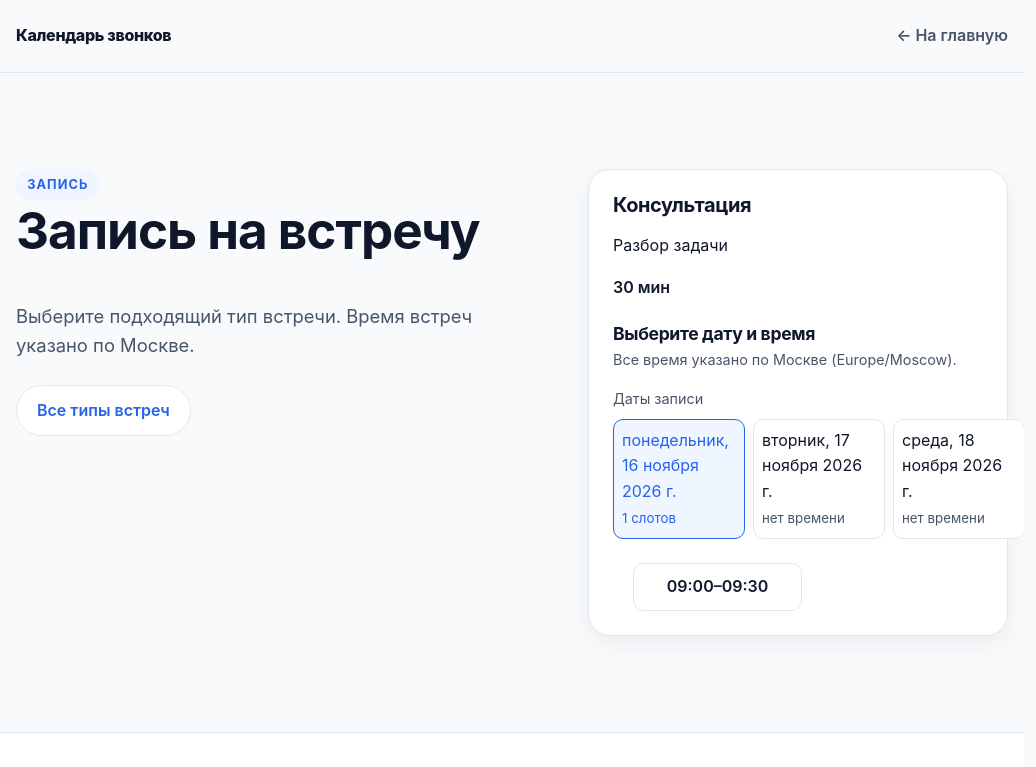
BookingTypePage › shows server field errors for invalid guest data
Check: the heading "Консультация" is shown, box [613,193,751,217]
Click the button "09:00–09:30" at [718, 587], box [633,563,802,611]
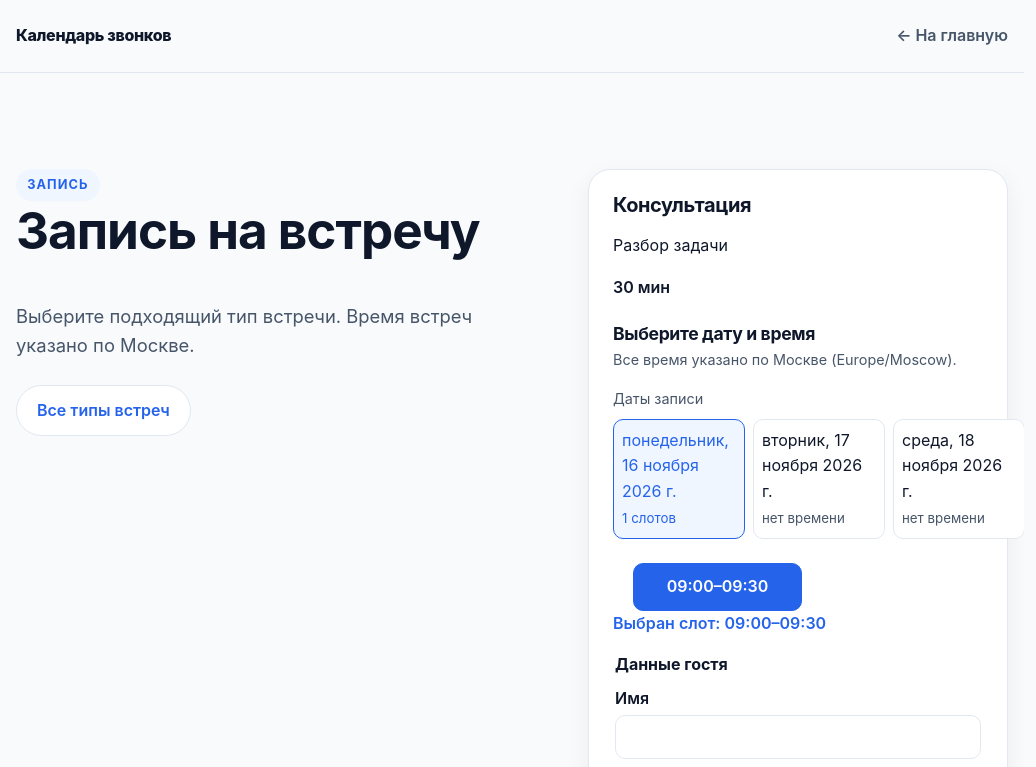
Type "Анна" into the field labelled "Имя" at [798, 737], box [615,715,981,759]
(page scrolled)
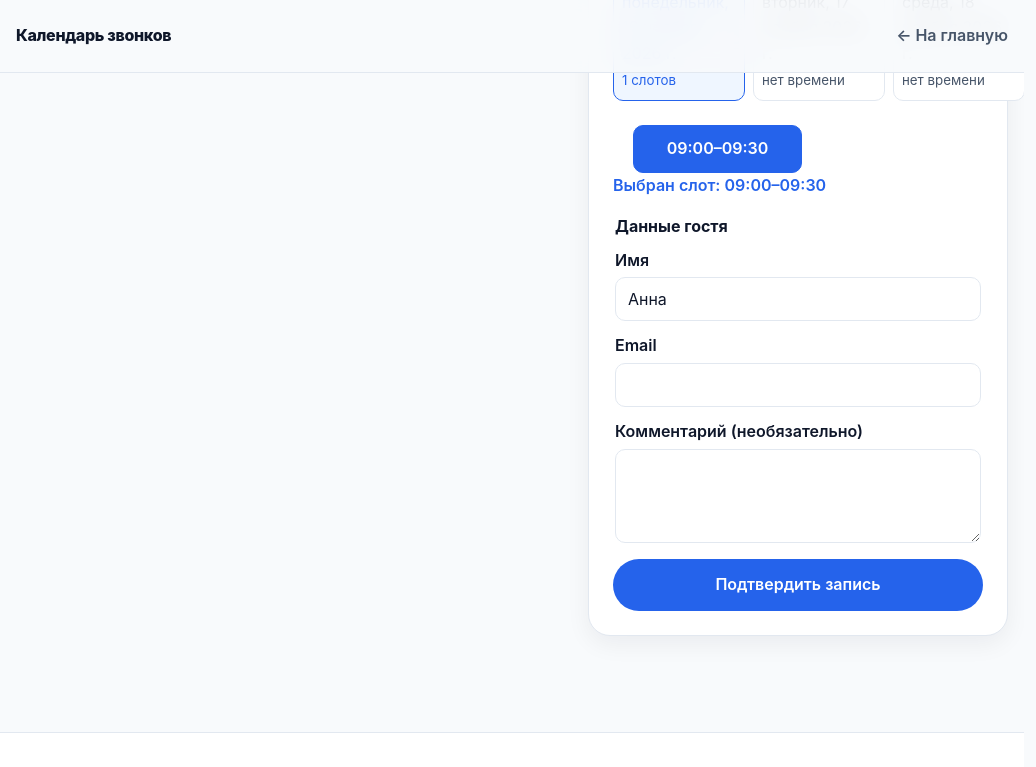
Type "anna@example.com" into the field labelled "Email" at [798, 385], box [615,363,981,407]
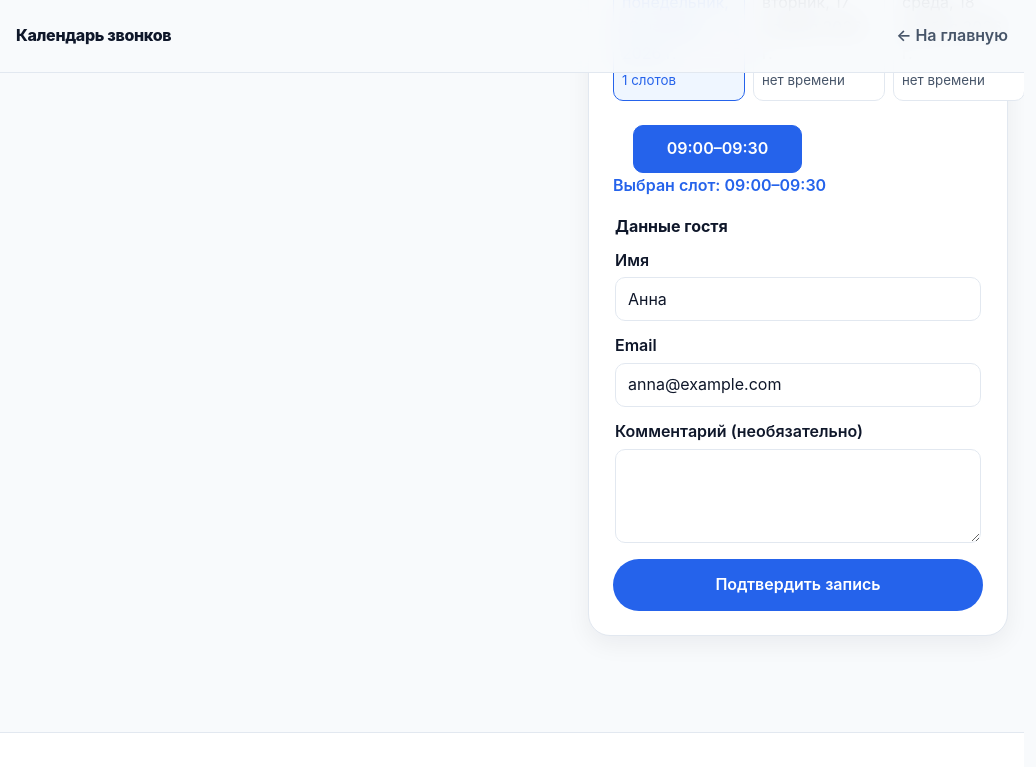
Type "Вопрос" into the text box labelled "Комментарий (необязательно)" at [798, 496], box [615,449,981,543]
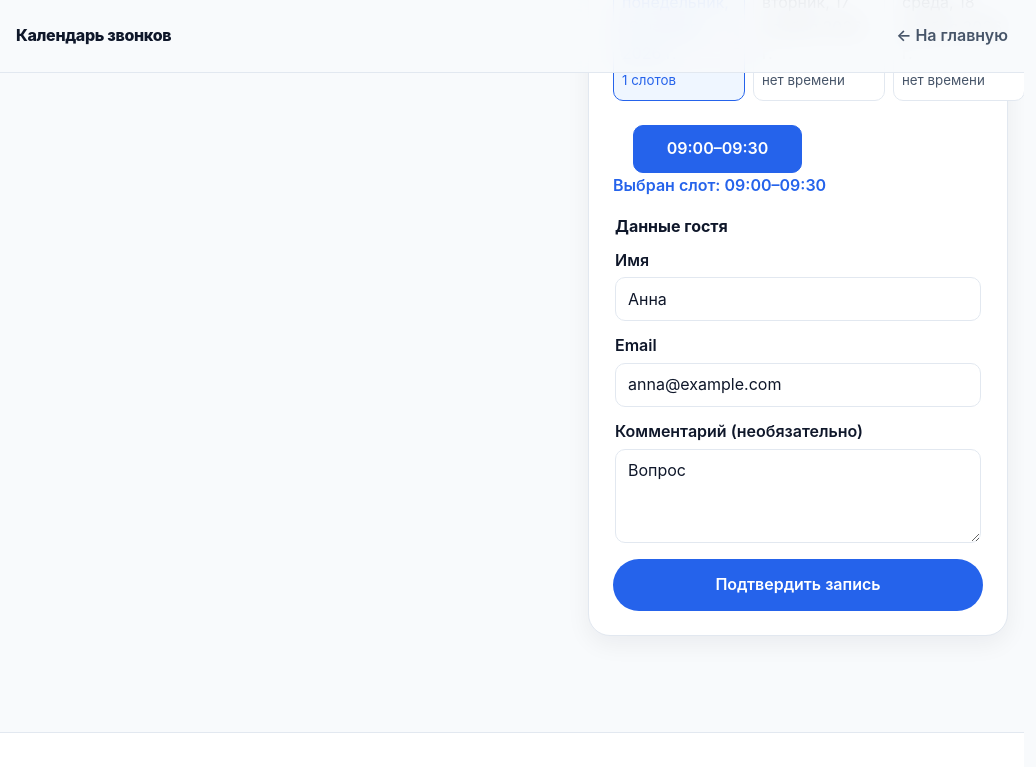
Click the button "Подтвердить запись" at [798, 585], box [613,559,983,611]
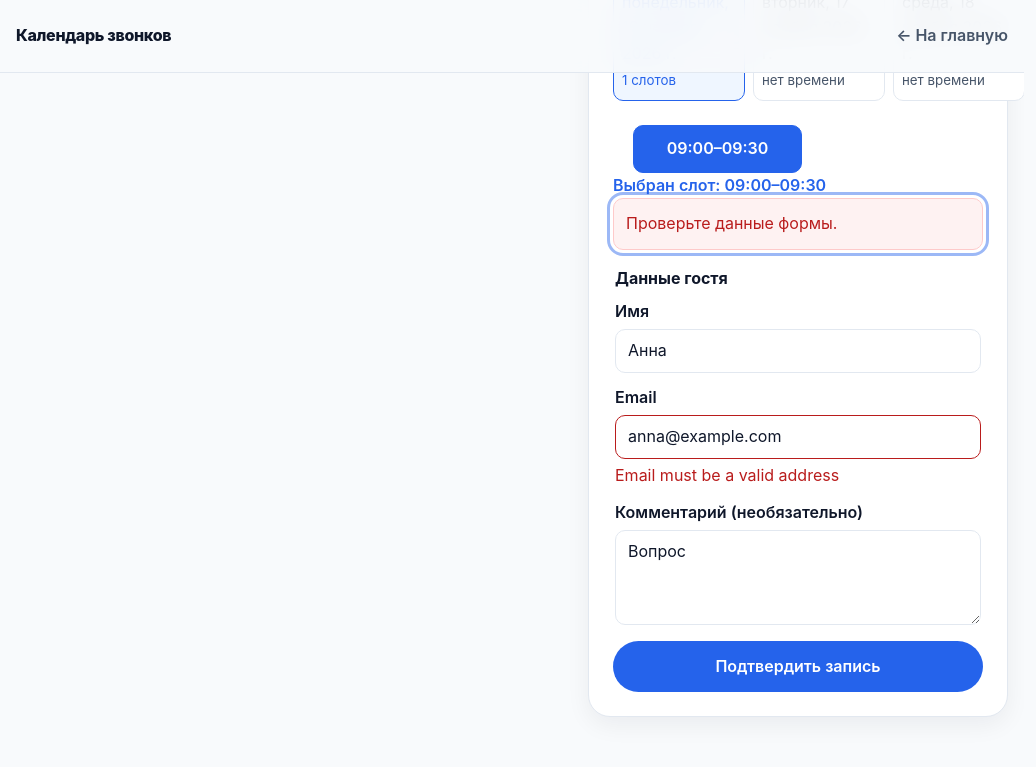
Check: the text "Выбран слот: 09:00–09:30" is shown, box [613,175,826,195]
Check: the text "Email must be a valid address" is shown, box [615,465,839,485]
